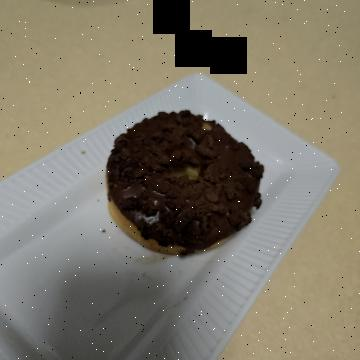doughnut: (76, 88, 260, 267)
